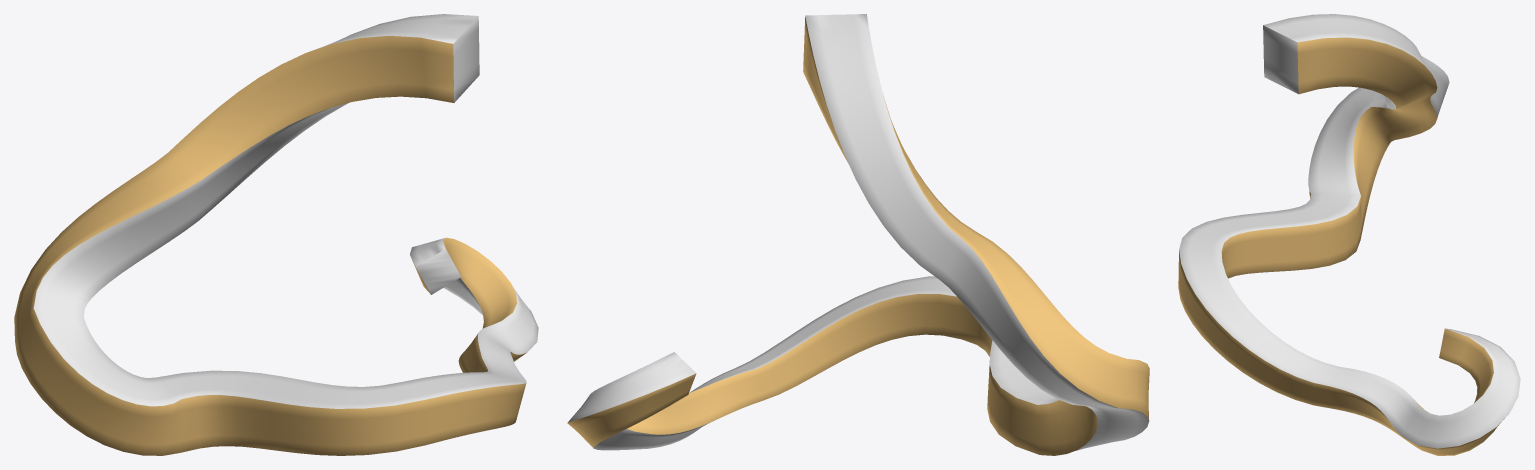
Rendered from weird_curve3.fbx.
3 renders of one model, left to right at view 1: azimuth 30°, elevation 25°; view 2: azimuth 150°, elevation 25°; view 3: azimuth 270°, elevation 25°, orthographic. The views are drawn at different scales.
Parts seen in each view (by area): view 1: WeirdCurve3; view 2: WeirdCurve3; view 3: WeirdCurve3.
Part boxes in pixels (x1,y1,x2,y2): WeirdCurve3: (14,14,538,455); WeirdCurve3: (567,14,1149,455); WeirdCurve3: (1178,14,1520,455).
Size of the model in its own units: 191 by 142 by 120.
